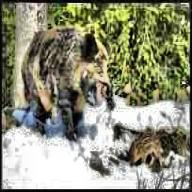boar: (18, 26, 116, 142)
